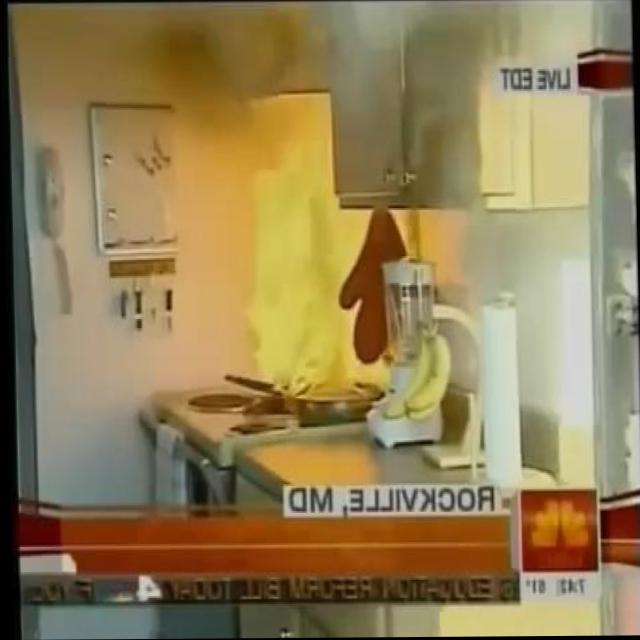fire: (231, 150, 392, 405)
